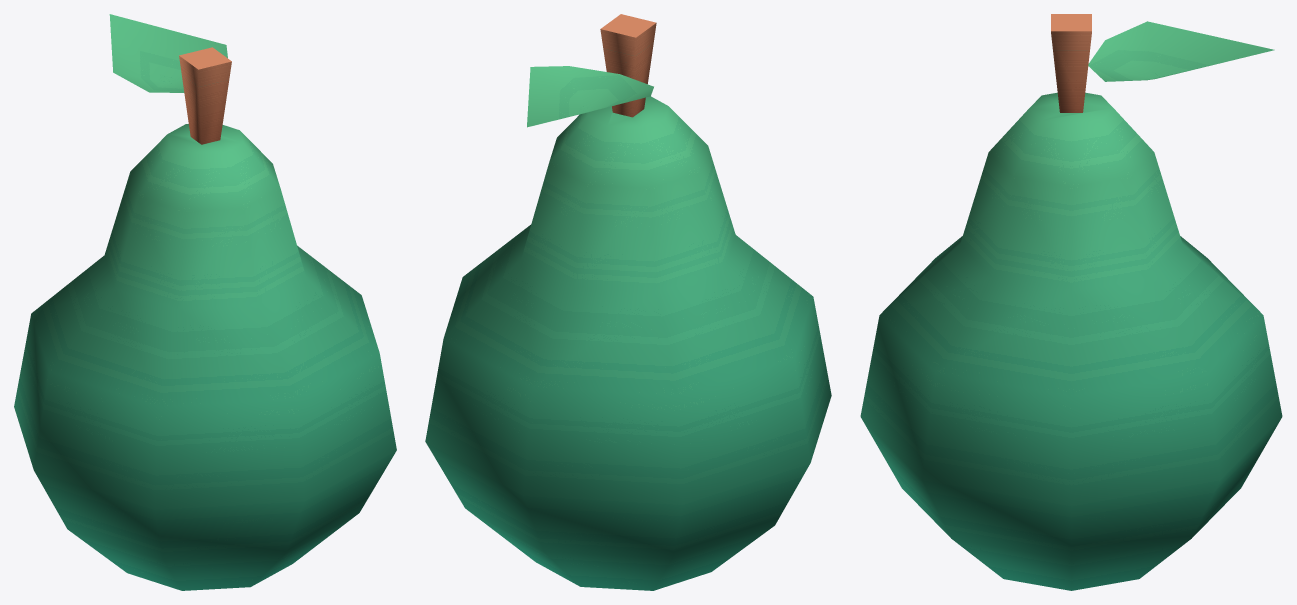
The model's file is pear.glb.
3 renders of one model, left to right at view 1: azimuth 30°, elevation 25°; view 2: azimuth 150°, elevation 25°; view 3: azimuth 270°, elevation 25°, orthographic. The views are drawn at different scales.
Visible parts, largest first — view 1: pear; view 2: pear; view 3: pear.
Part boxes in pixels (bbox=[...]): pear: bbox=[14, 14, 396, 590]; pear: bbox=[425, 14, 831, 590]; pear: bbox=[860, 14, 1282, 590].
Bounding box in the file's own units: 0.1963 × 0.2708 × 0.1963.
Materials: 1 (1 with a texture image).
